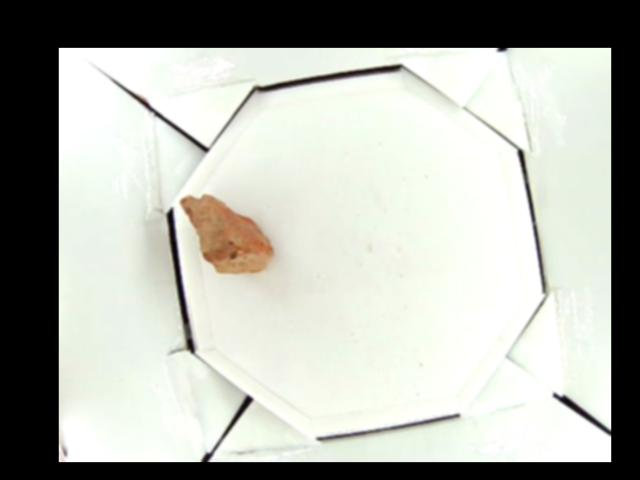Brisk: (176, 194, 272, 271)
